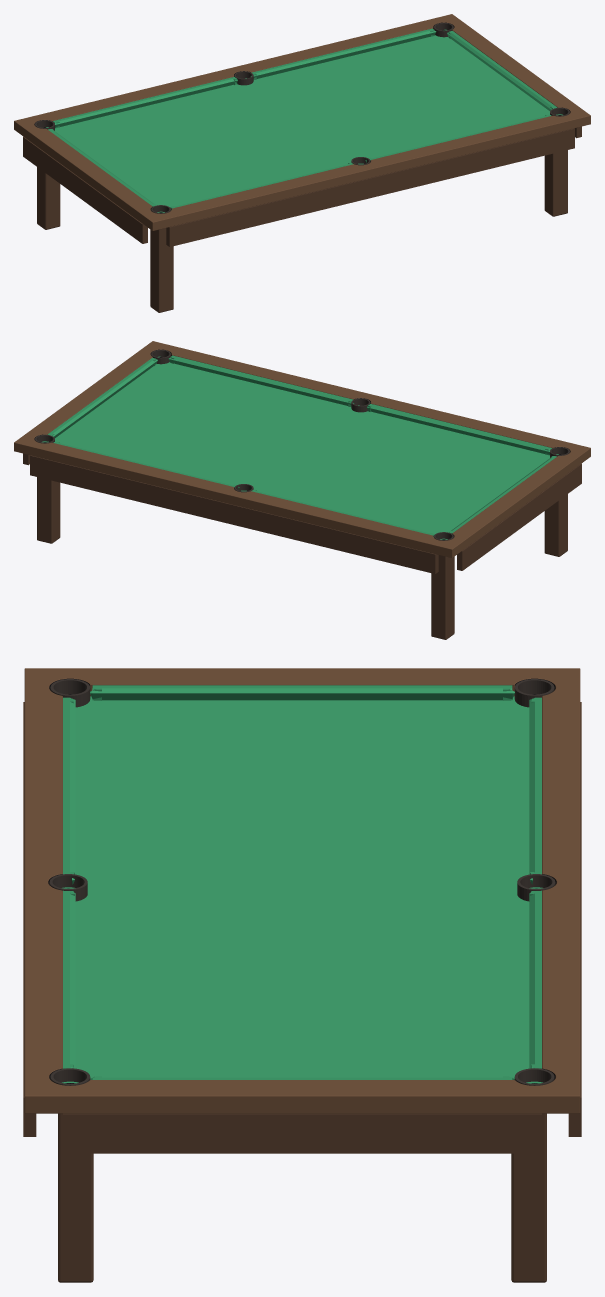
The model's file is table_snooker.glb.
3 renders of one model, top to bottom at view 1: azimuth 30°, elevation 25°; view 2: azimuth 150°, elevation 25°; view 3: azimuth 270°, elevation 25°, orthographic. The views are drawn at different scales.
Parts seen in each view (by area): view 1: Bed, Rails, SkirtN, SkirtW, Leg-1-1, Cushion0, Cushion1, Leg1-1, Leg-11, Cushion4, Cushion5; view 2: Bed, Rails, SkirtS, SkirtW, Leg-11, Cushion2, Cushion3, Leg11, Leg-1-1, Cushion4, Cushion5; view 3: Bed, Rails, SkirtE, Cushion5, Leg1-1, Leg11, Cushion1, Cushion3, Cushion2, Cushion0, Cushion4, SkirtN (+3 smaller).
Part boxes in pixels (box(x1,y1,x2,y2)): Bed: box(44, 29, 562, 212); Rails: box(14, 14, 590, 230); SkirtN: box(166, 128, 574, 246); SkirtW: box(23, 136, 147, 243); Leg-1-1: box(150, 228, 173, 312); Cushion0: box(52, 77, 237, 127); Cushion1: box(251, 28, 435, 78); Leg1-1: box(544, 150, 567, 216); Leg-11: box(37, 167, 60, 229); Cushion4: box(447, 31, 557, 110); Cushion5: box(48, 129, 155, 206); Bed: box(42, 356, 560, 539); Rails: box(14, 341, 590, 557); SkirtS: box(30, 455, 438, 573); SkirtW: box(457, 463, 581, 570); Leg-11: box(431, 555, 454, 639); Cushion2: box(367, 404, 552, 454); Cushion3: box(169, 355, 353, 405); Leg11: box(37, 477, 60, 543); Leg-1-1: box(544, 494, 567, 556); Cushion4: box(47, 358, 157, 437); Cushion5: box(449, 456, 556, 533); Bed: box(62, 696, 542, 1083); Rails: box(24, 668, 580, 1113); SkirtE: box(63, 1113, 541, 1153); Cushion5: box(92, 685, 512, 700); Leg1-1: box(58, 1113, 93, 1282); Leg11: box(511, 1113, 546, 1282); Cushion1: box(529, 891, 541, 1068); Cushion3: box(63, 891, 75, 1068); Cushion2: box(63, 697, 75, 874); Cushion0: box(529, 697, 541, 874); Cushion4: box(92, 1077, 512, 1079); SkirtN: box(23, 702, 36, 1136).
Size of the model in its own units: 3.98 by 0.872 by 2.19.
